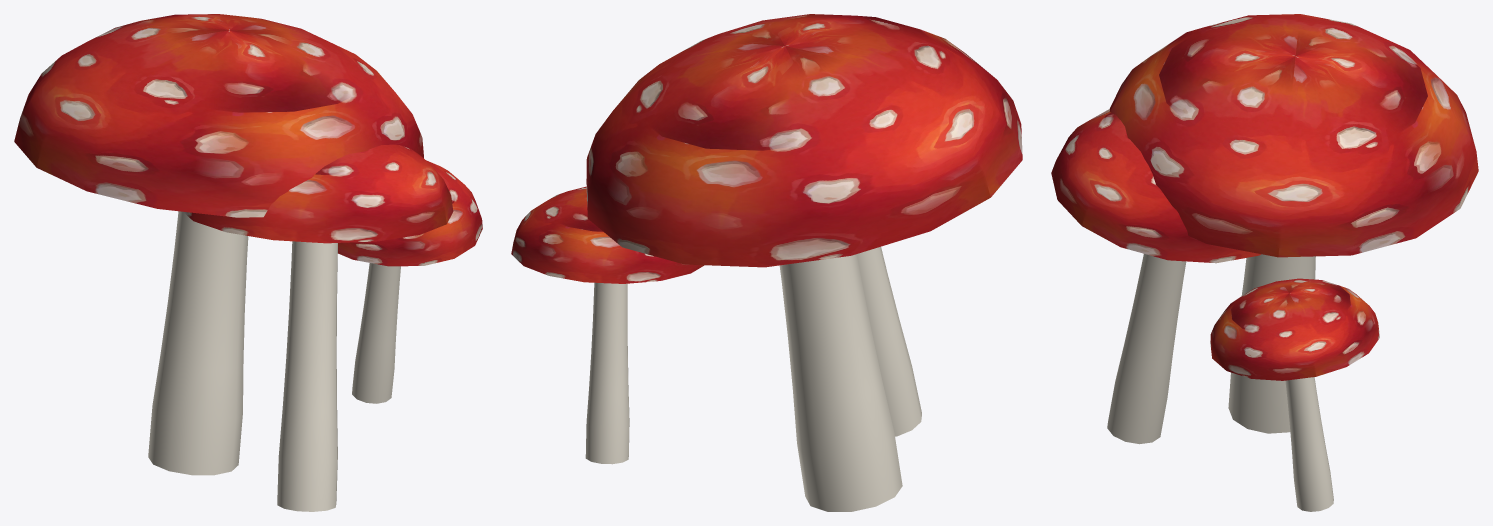
Rendered from fly_agaric1_s15869.gltf.
3 renders of one model, left to right at view 1: azimuth 30°, elevation 25°; view 2: azimuth 150°, elevation 25°; view 3: azimuth 270°, elevation 25°, orthographic. The views are drawn at different scales.
Parts seen in each view (by area): view 1: fly_agaric1_s15869_cap_LOD0, fly_agaric1_s15869_stem_LOD0; view 2: fly_agaric1_s15869_cap_LOD0, fly_agaric1_s15869_stem_LOD0; view 3: fly_agaric1_s15869_cap_LOD0, fly_agaric1_s15869_stem_LOD0.
Boxes of the visible parts, bbox=[...] form: fly_agaric1_s15869_cap_LOD0: bbox=[14, 14, 482, 266]; fly_agaric1_s15869_stem_LOD0: bbox=[148, 211, 400, 511]; fly_agaric1_s15869_cap_LOD0: bbox=[511, 14, 1022, 283]; fly_agaric1_s15869_stem_LOD0: bbox=[585, 246, 921, 511]; fly_agaric1_s15869_cap_LOD0: bbox=[1051, 14, 1478, 380]; fly_agaric1_s15869_stem_LOD0: bbox=[1107, 254, 1333, 511].
Size of what is drawn, in the model's own units: 0.3405 by 0.3146 by 0.3162.
3 materials, 1 textured.
